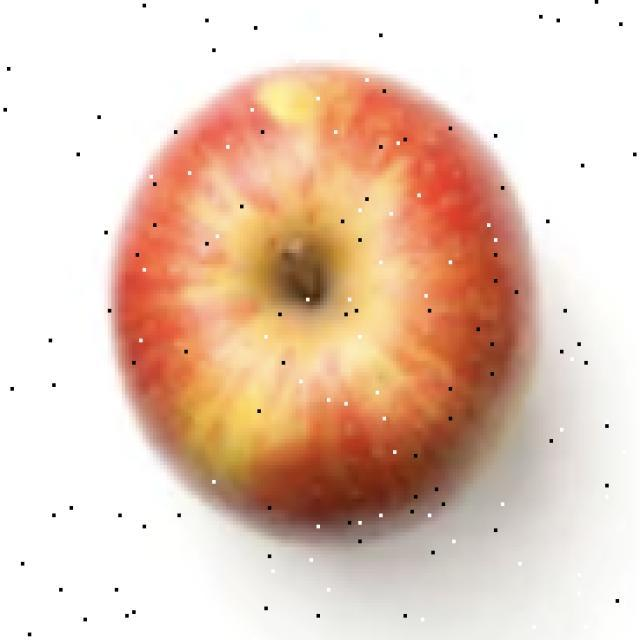Fresh Apple: (118, 73, 525, 530)
